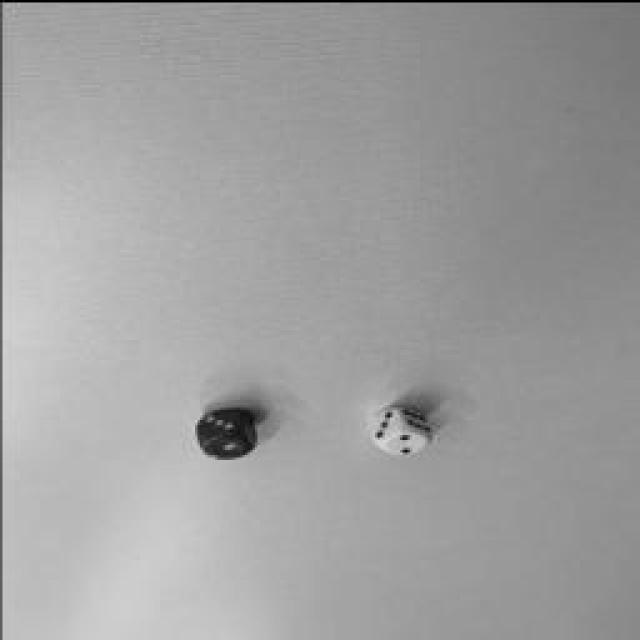dice_1: (202, 432, 252, 456)
dice_2: (381, 426, 429, 454)
